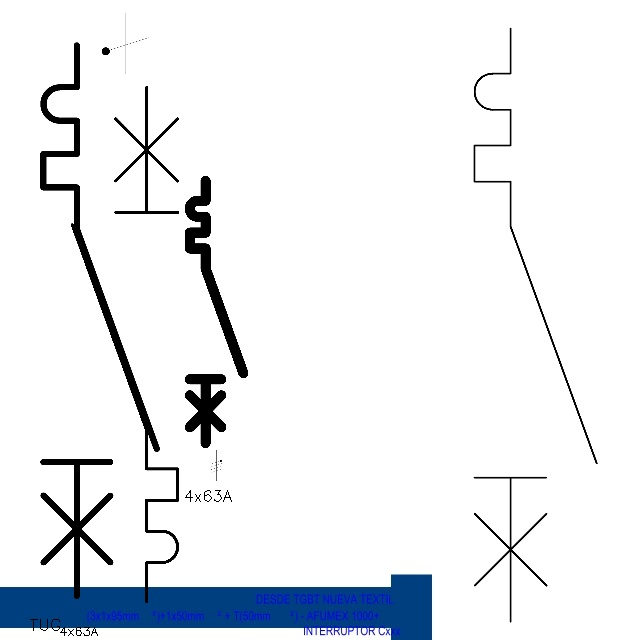interruptor_termomagnetico: (459, 13, 612, 637), (29, 31, 170, 610), (59, 74, 191, 615), (183, 174, 250, 450)
